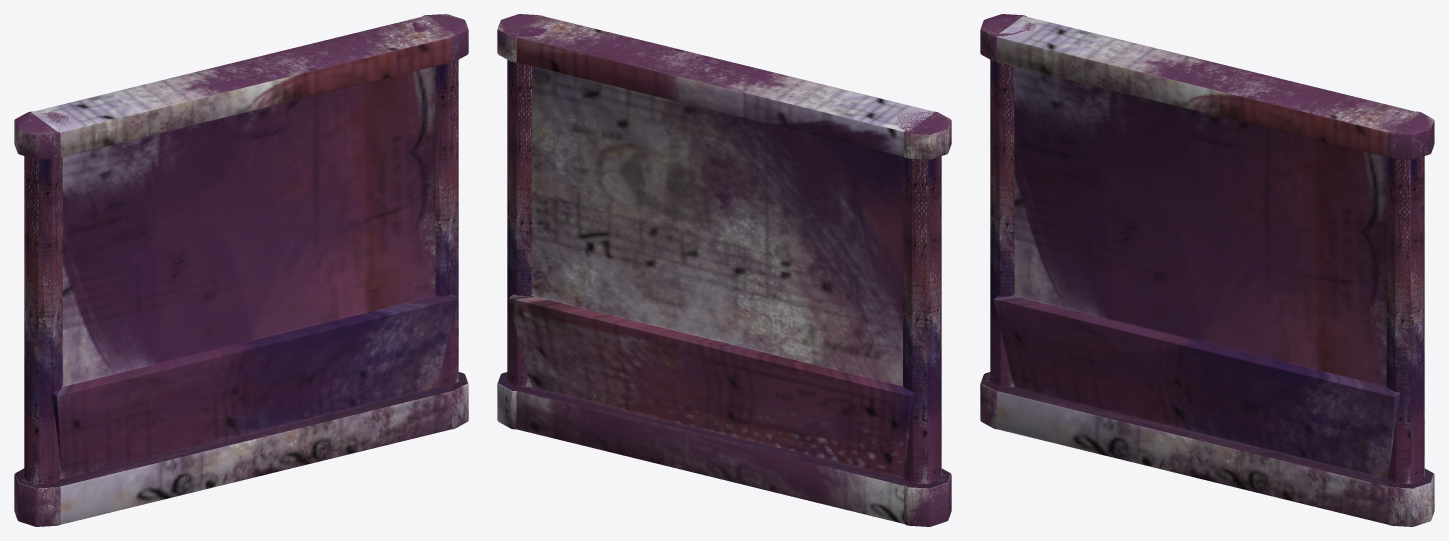
File: MANOR_WALL_3_007.obj
The picture shows the model from 3 angles, left to right: view 1: azimuth 30°, elevation 25°; view 2: azimuth 150°, elevation 25°; view 3: azimuth 330°, elevation 25°; orthographic projection.
Visible parts, largest first — view 1: MANOR_WALL_3_007; view 2: MANOR_WALL_3_007; view 3: MANOR_WALL_3_007.
Part boxes in pixels (left/top/right/bottom): MANOR_WALL_3_007: left=14, top=14, right=468, bottom=526; MANOR_WALL_3_007: left=497, top=14, right=951, bottom=526; MANOR_WALL_3_007: left=980, top=14, right=1434, bottom=526.
Bounding box in the file's own units: 3.57 × 3 × 0.4138.
